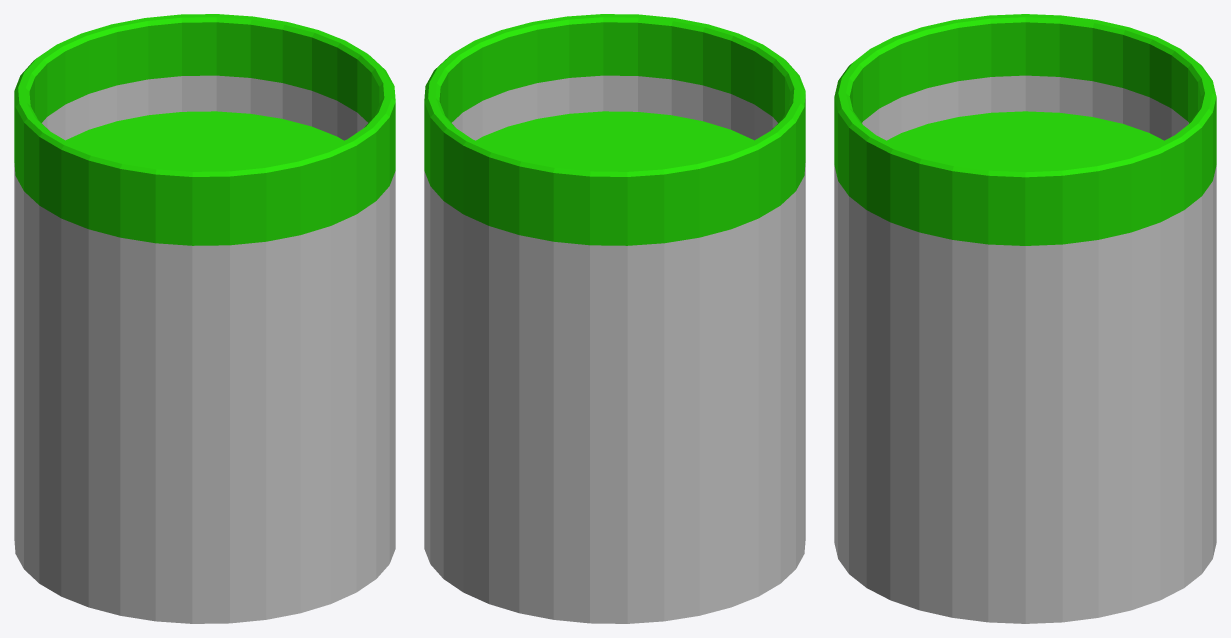
The model's file is Bucket.fbx.
3 views of the same model, side by side, from view 1: azimuth 30°, elevation 25°; view 2: azimuth 150°, elevation 25°; view 3: azimuth 270°, elevation 25° (orthographic).
Parts seen in each view (by area): view 1: Cylinder; view 2: Cylinder; view 3: Cylinder.
Part boxes in pixels (left/top/right/bottom): Cylinder: left=14, top=14, right=395, bottom=623; Cylinder: left=424, top=14, right=805, bottom=623; Cylinder: left=834, top=14, right=1216, bottom=623.
Size of the model in its own units: 10 by 13 by 10.
